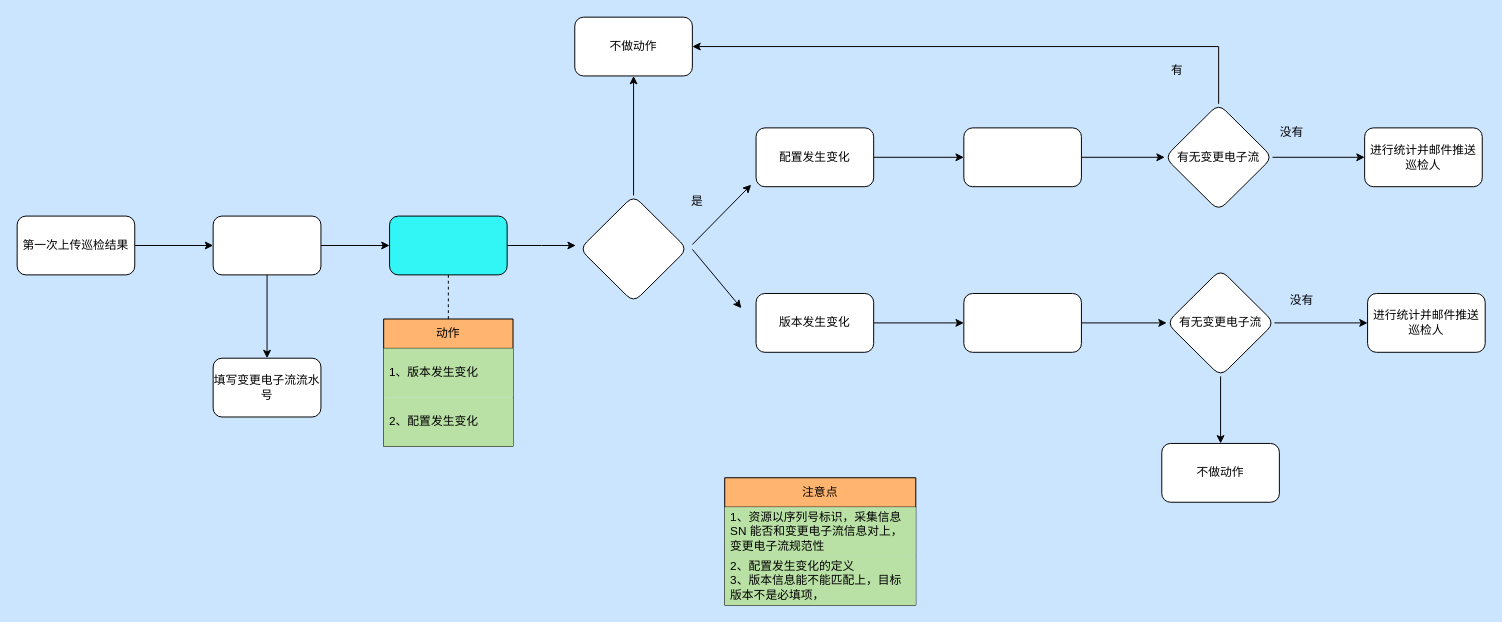
Some shapes in this 1502 by 622 pixel diagram are drawn without their labels. Here are the shapes that lost their labels. From the top down, the centre of each, then its label:
At point (1022, 157): "调动变更电子流系统接口查询1、2次巡检结果期间有无变更电子流".
At point (266, 245): "第二次上传巡检结果".
At point (448, 245): "iservice对比差异".
At point (633, 248): "是否发生变动".
At point (1022, 322): "调动变更电子流系统接口查询1、2次巡检结果期间有无变更电子流，且目标版本能不能对上".
